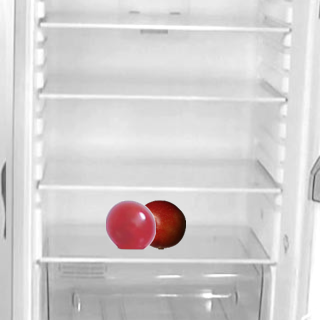Apple Braeburn: (135, 199, 185, 249)
Redcurrant: (105, 199, 155, 249)
